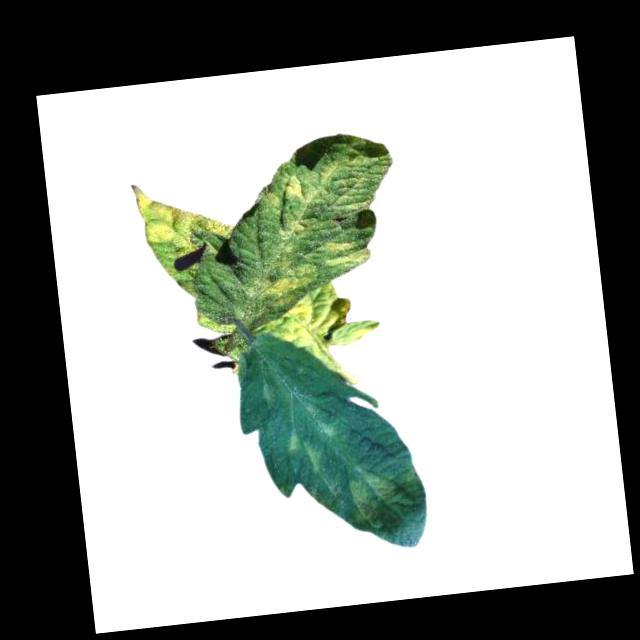Leaf_Mold: (130, 173, 237, 257), (278, 290, 382, 350), (346, 462, 415, 535), (244, 261, 317, 302), (275, 167, 326, 210), (284, 427, 323, 478), (320, 232, 373, 269), (272, 213, 311, 242)
